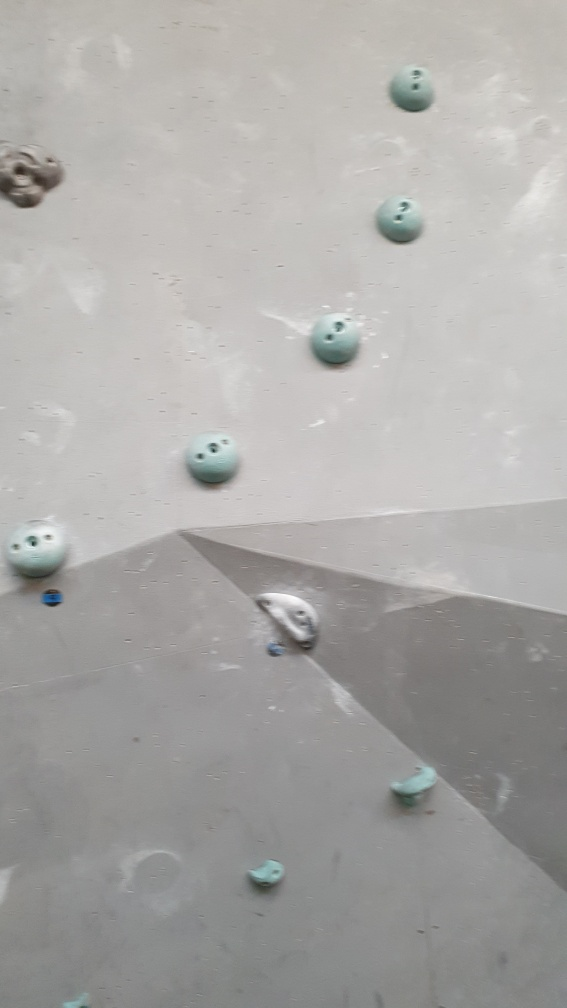Hand Start: (40, 586, 65, 614), (265, 639, 286, 657)
Jug: (1, 129, 65, 211), (390, 761, 442, 814)
Sloper: (1, 513, 75, 579), (183, 428, 247, 489), (309, 307, 369, 370), (375, 193, 431, 252), (384, 60, 440, 114)
